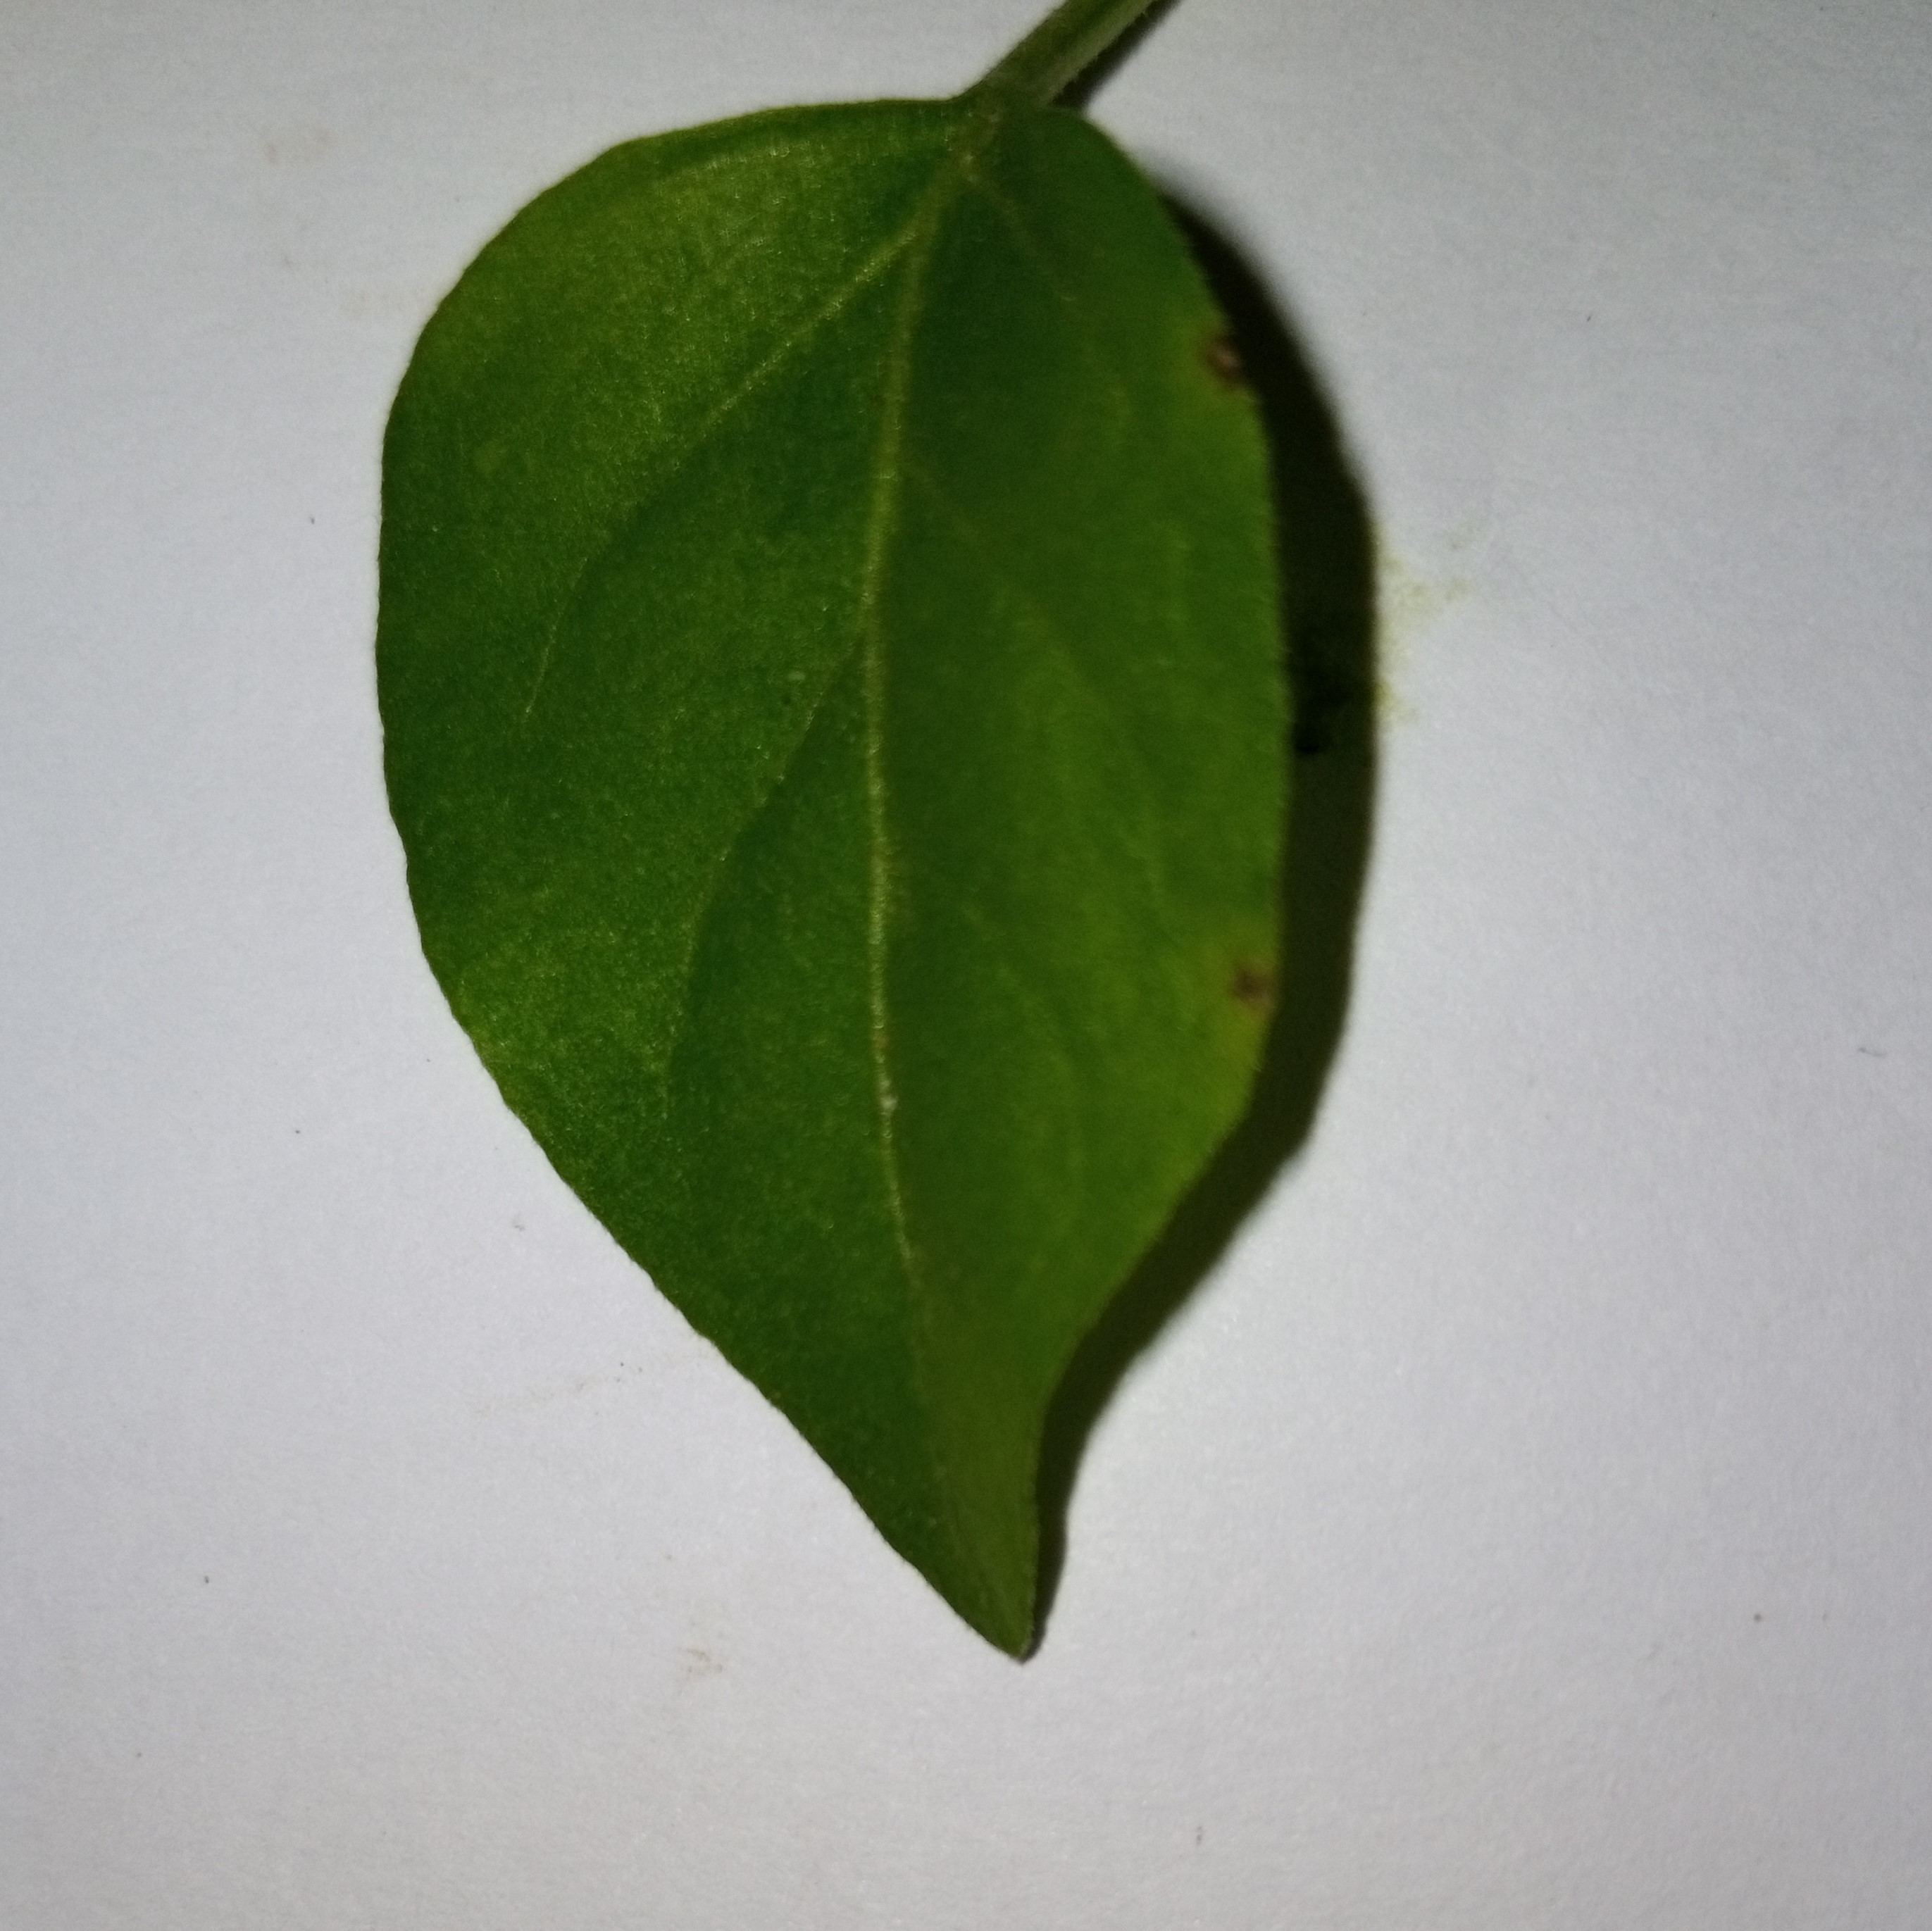Leaf: (257, 51, 1688, 1653)
